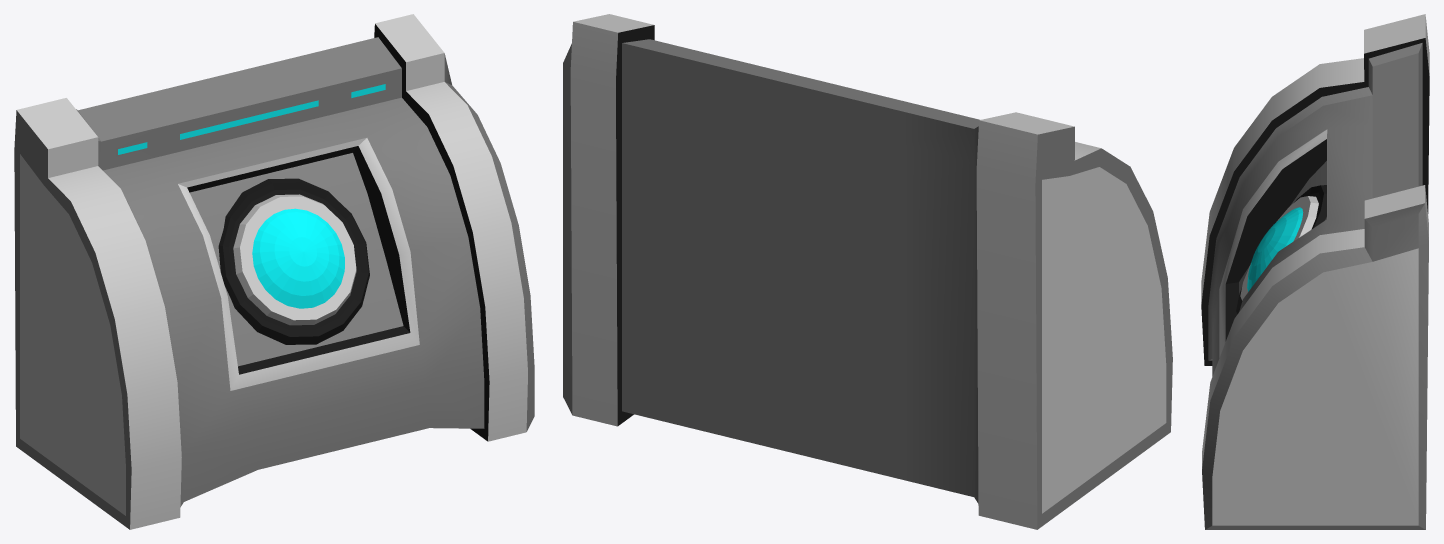
Rendered from Module_003.fbx.
The picture shows the model from 3 angles, left to right: view 1: azimuth 30°, elevation 25°; view 2: azimuth 150°, elevation 25°; view 3: azimuth 270°, elevation 25°; orthographic projection. The views are drawn at different scales.
Visible parts, largest first — view 1: Module_003; view 2: Module_003; view 3: Module_003.
Boxes of the visible parts, x1,y1,x2,y2 form: Module_003: (14, 14, 534, 529); Module_003: (563, 14, 1172, 529); Module_003: (1201, 14, 1429, 529).
Bounding box in the file's own units: 450 × 355 × 224.
